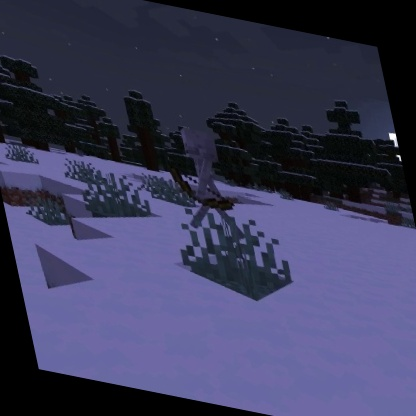skeleton: (156, 118, 247, 241)
